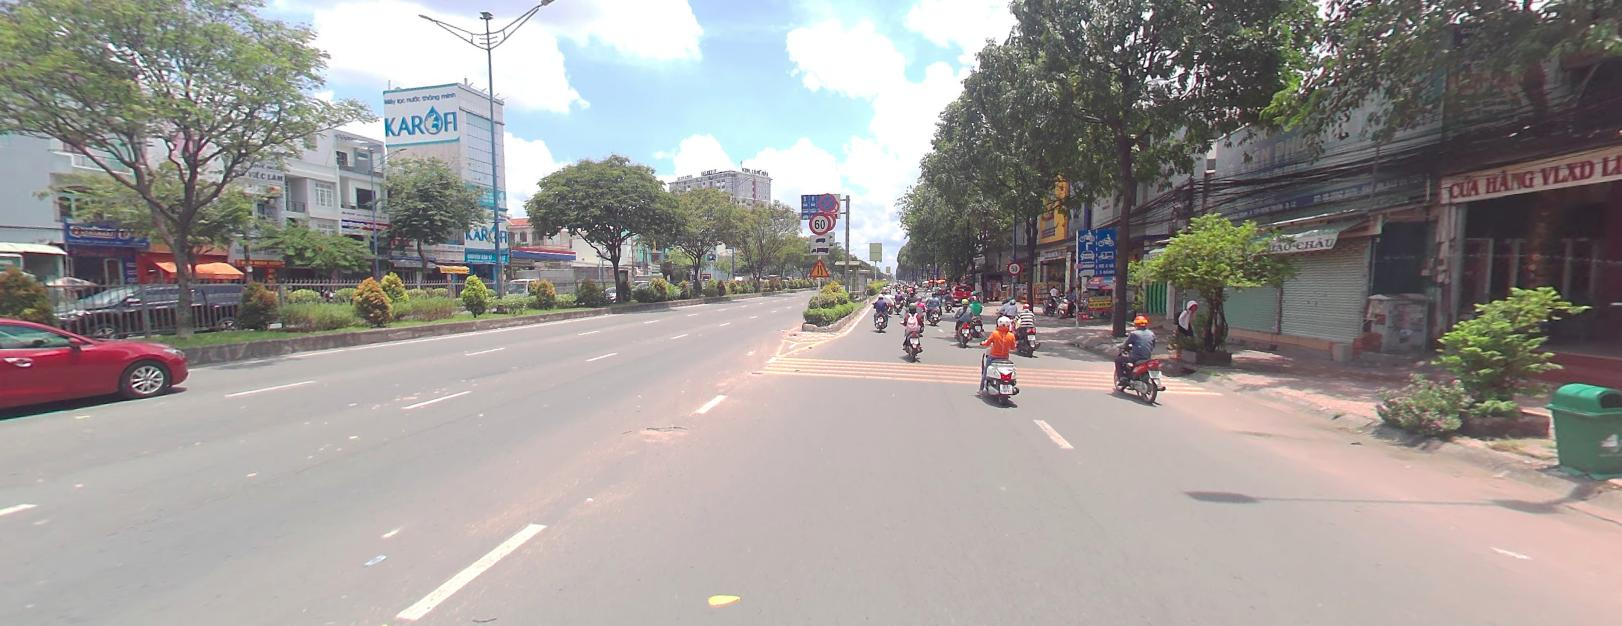Cam con lai: (820, 212, 836, 228), (827, 198, 839, 211)
Cam dung va do: (817, 191, 835, 209)
Gioi han toc do: (807, 212, 830, 232), (1007, 260, 1021, 272)
